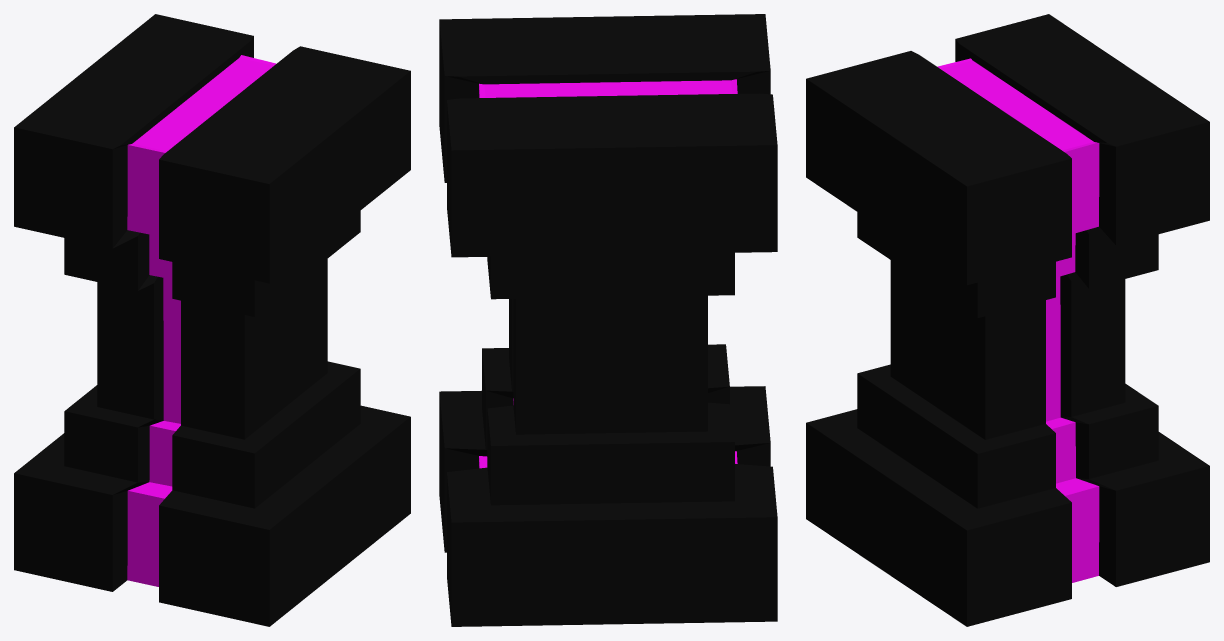
The model's file is Autel001.FBX.
The picture shows the model from 3 angles, left to right: view 1: azimuth 30°, elevation 25°; view 2: azimuth 150°, elevation 25°; view 3: azimuth 270°, elevation 25°; orthographic projection. The views are drawn at different scales.
Visible parts, largest first — view 1: Box013; view 2: Box013; view 3: Box013.
Boxes of the visible parts, <box> form: Box013: <box>14,14,410,626</box>; Box013: <box>439,14,777,626</box>; Box013: <box>806,14,1209,626</box>.
Bounding box in the file's own units: 231 × 275 × 228.
